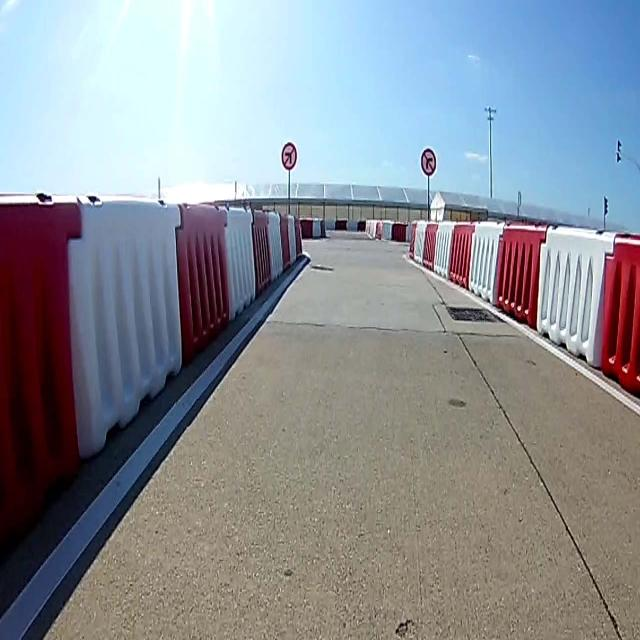sagadonulmez: (420, 145, 438, 179)
soladonulmez: (281, 139, 297, 169)
